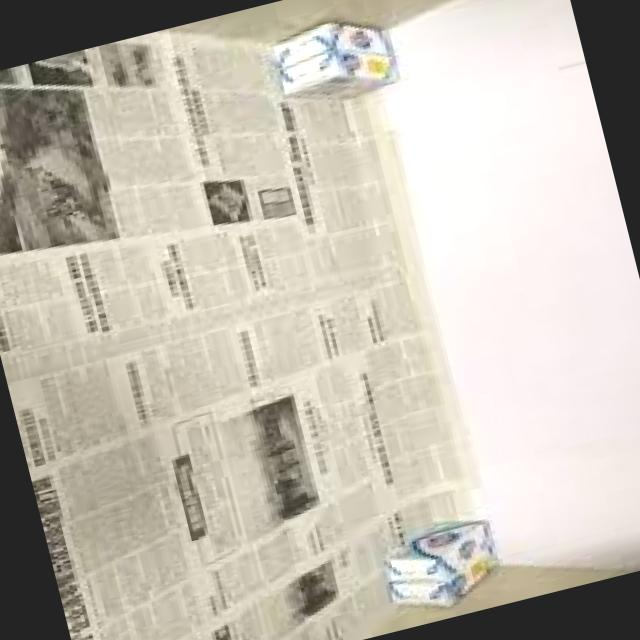paper: (0, 7, 406, 640), (268, 93, 507, 532), (377, 500, 538, 618), (263, 0, 420, 112)
